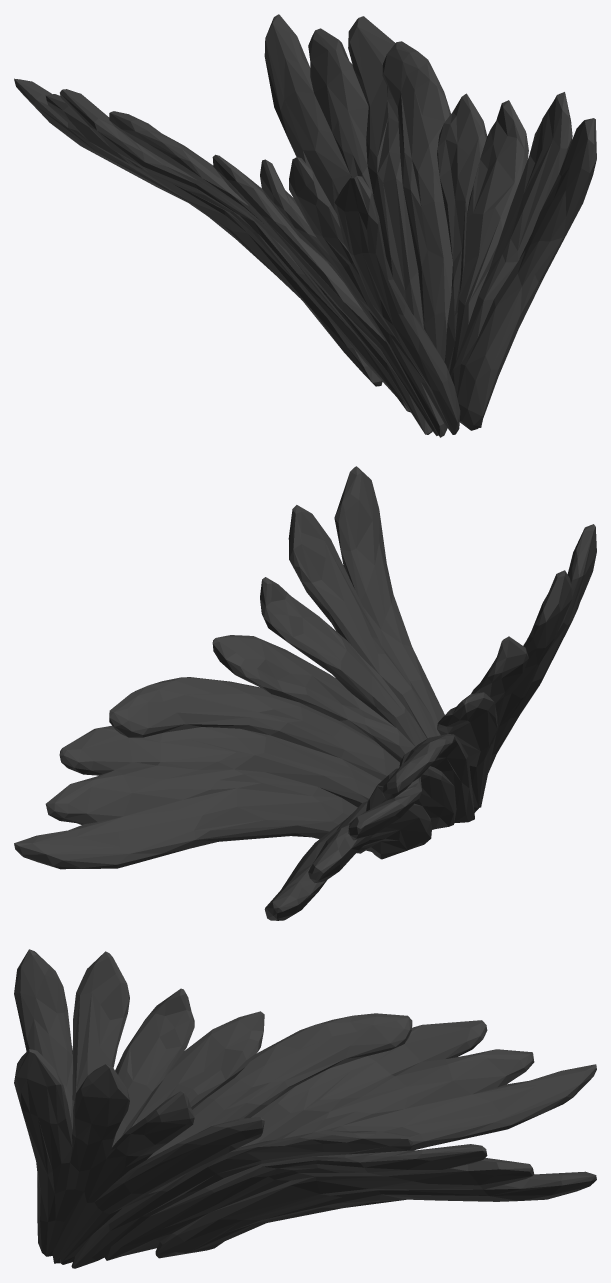
Rendered from m_serratus_dorsalis_cranialis.glb.
3 views of the same model, one above another, from view 1: azimuth 30°, elevation 25°; view 2: azimuth 150°, elevation 25°; view 3: azimuth 270°, elevation 25° (orthographic). The views are drawn at different scales.
Parts seen in each view (by area): view 1: m_serratus_dorsalis_cranialis; view 2: m_serratus_dorsalis_cranialis; view 3: m_serratus_dorsalis_cranialis.
Boxes of the visible parts, x1,y1,x2,y2 form: m_serratus_dorsalis_cranialis: (14, 14, 596, 437); m_serratus_dorsalis_cranialis: (14, 466, 596, 920); m_serratus_dorsalis_cranialis: (14, 949, 596, 1268).
Bounding box in the file's own units: 0.00263 × 0.00247 × 0.00499.
1 material, 1 textured.
